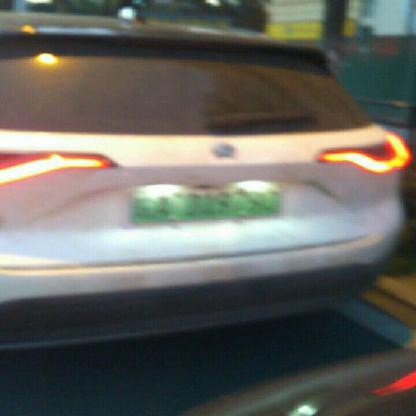lp: (131, 182, 282, 223)
